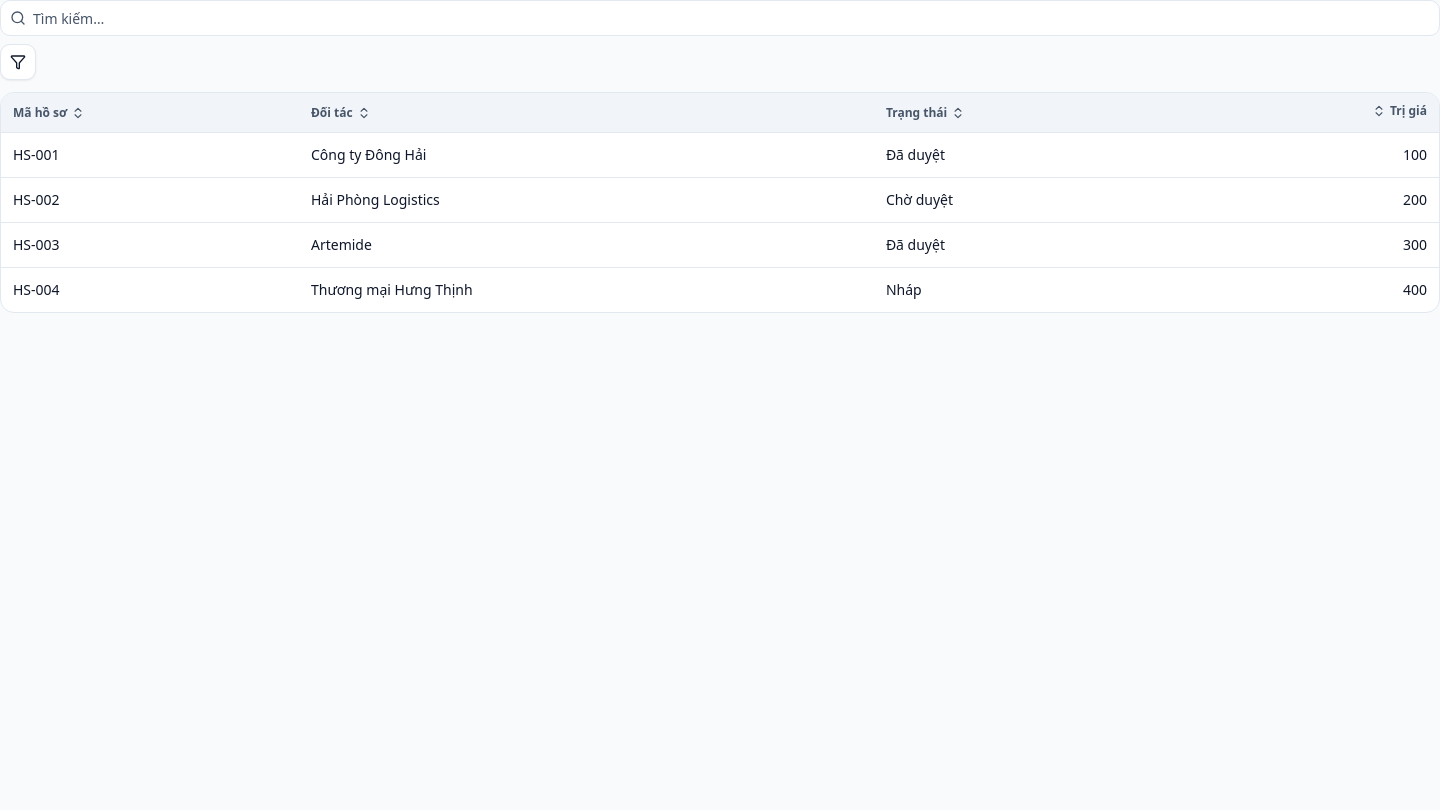
Test case: DataTable – lọc theo cột › kết hợp tìm kiếm + lọc cột; 'Xóa bộ lọc' trả lại đủ dòng và làm trống các ô
This screenshot has width=1440, height=810.
Type "hai" into the search field named "Tìm trong bảng".
click(720, 18); type("hai")  # box [0,0,1439,36]
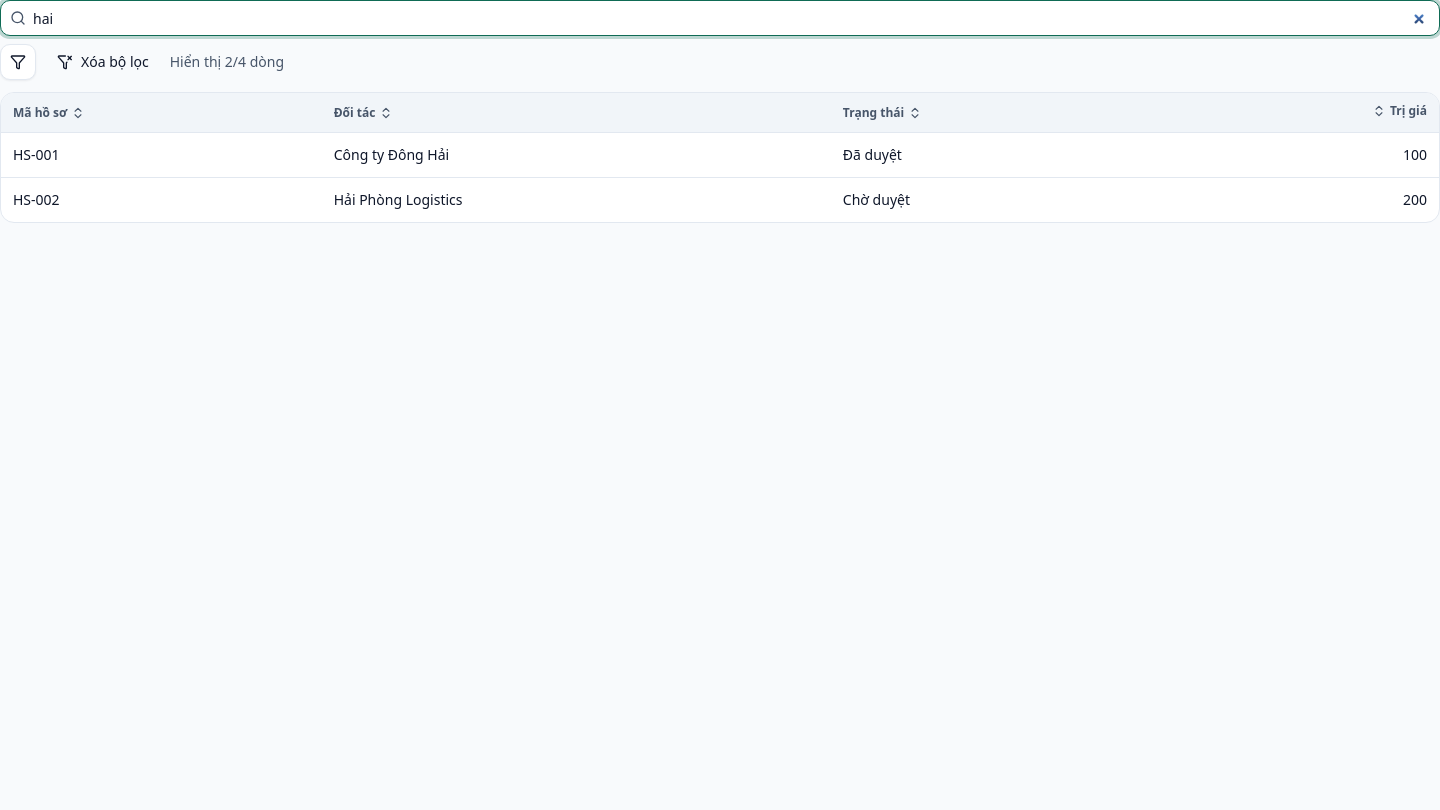
Click the button named "Bộ lọc".
click(18, 62)  # box [0,44,36,80]
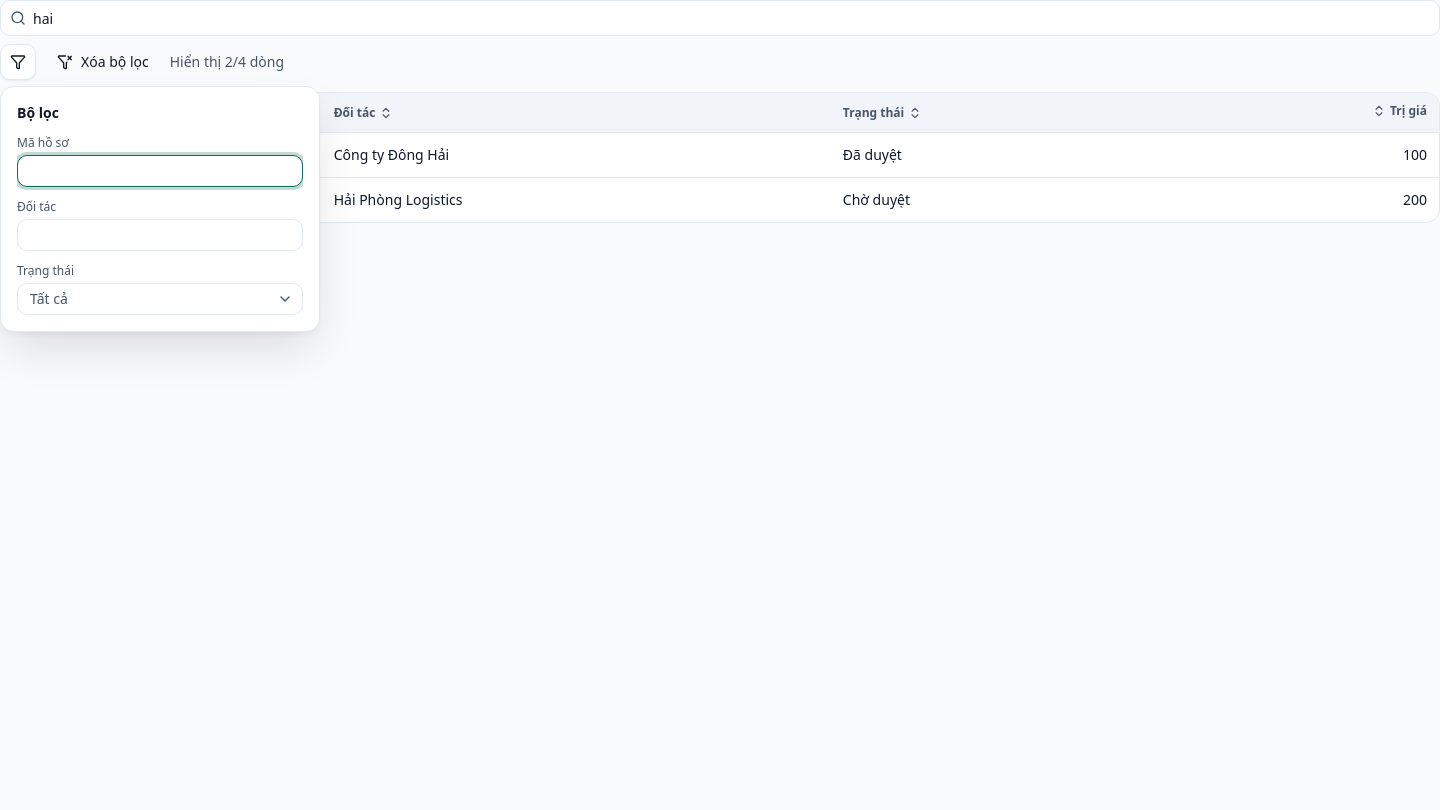
Click the dropdown named "Lọc theo Trạng thái".
click(49, 298)  # box [17,283,303,315]
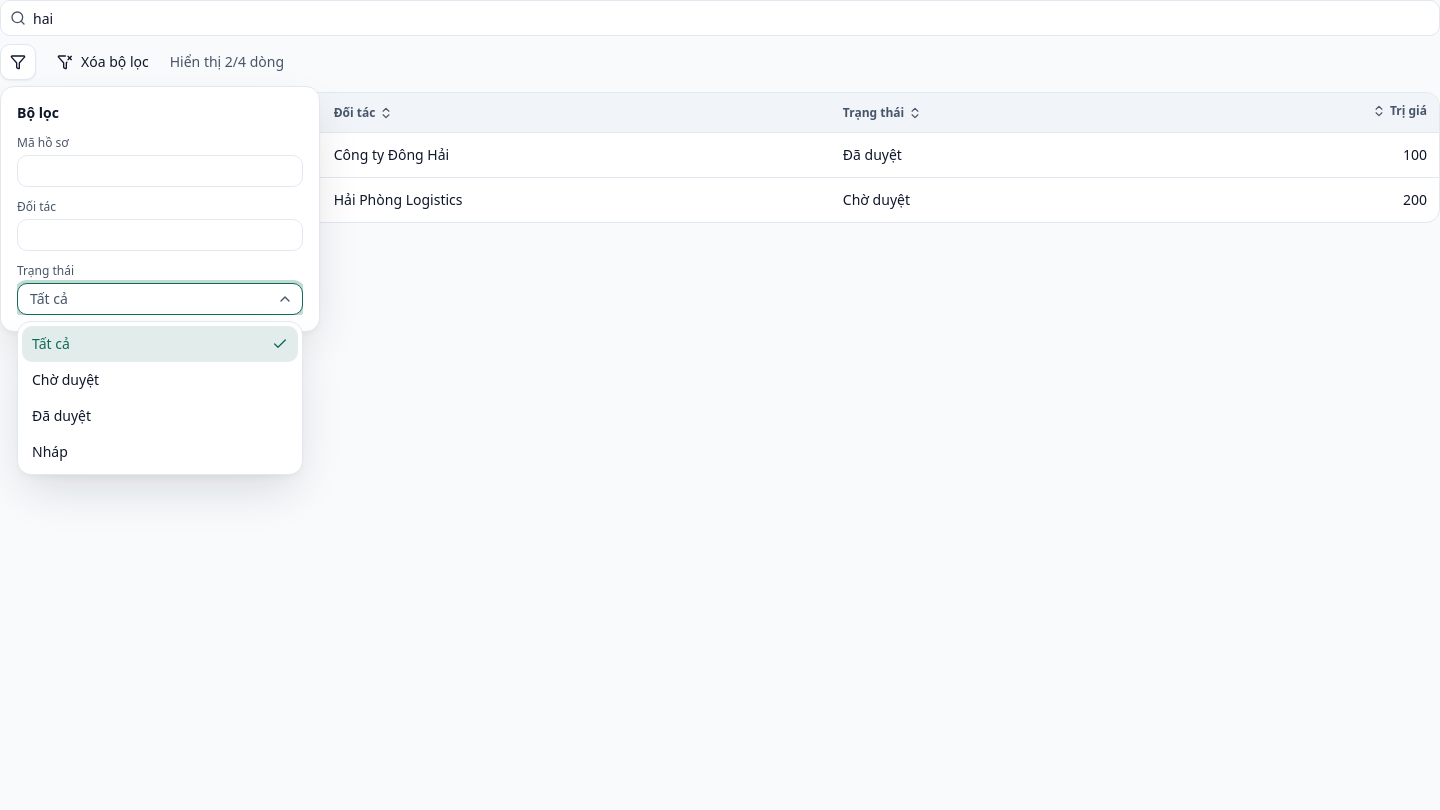
Click the option "Chờ duyệt".
click(66, 380)  # box [32,370,99,389]
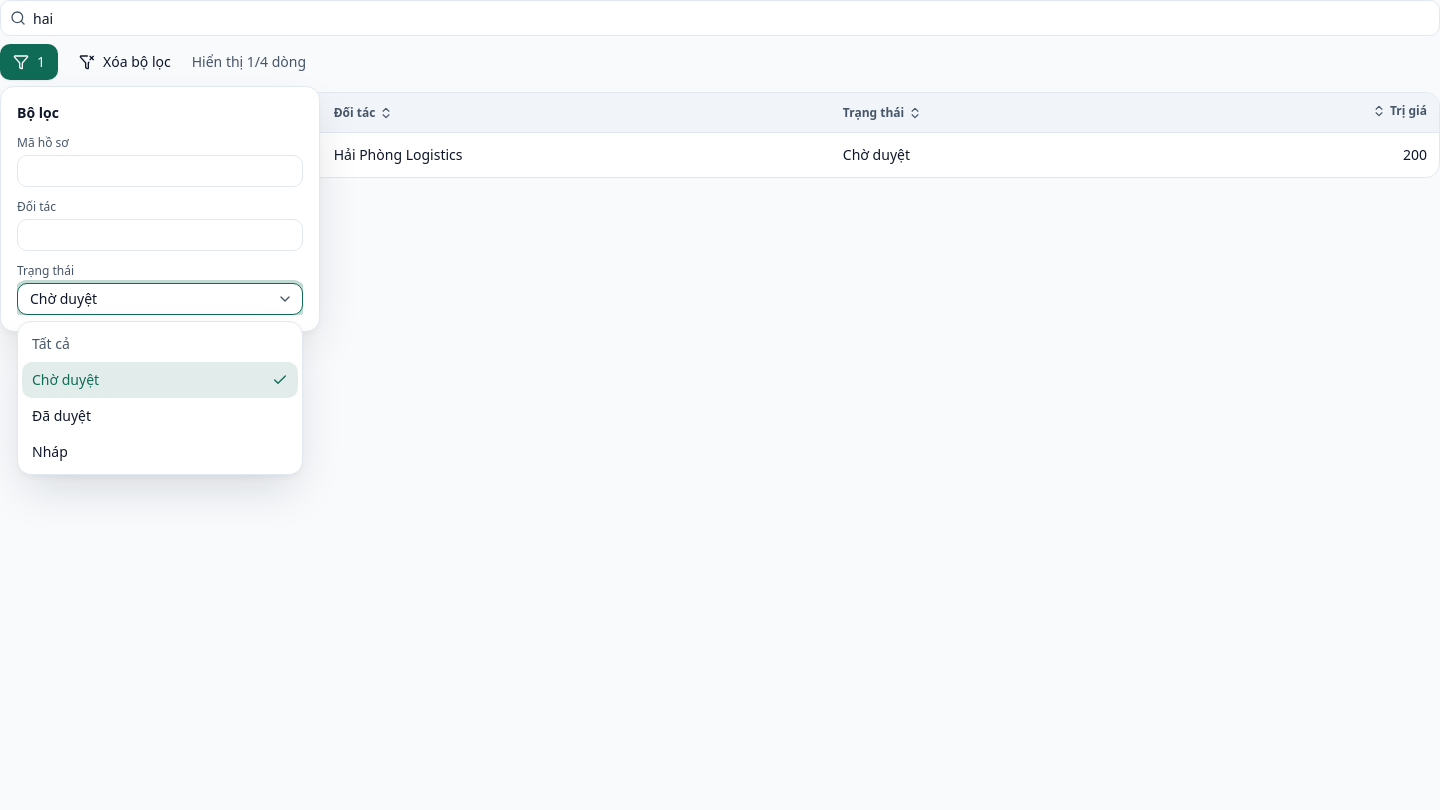
Click the button "Xóa bộ lọc".
click(125, 62)  # box [66,46,184,78]
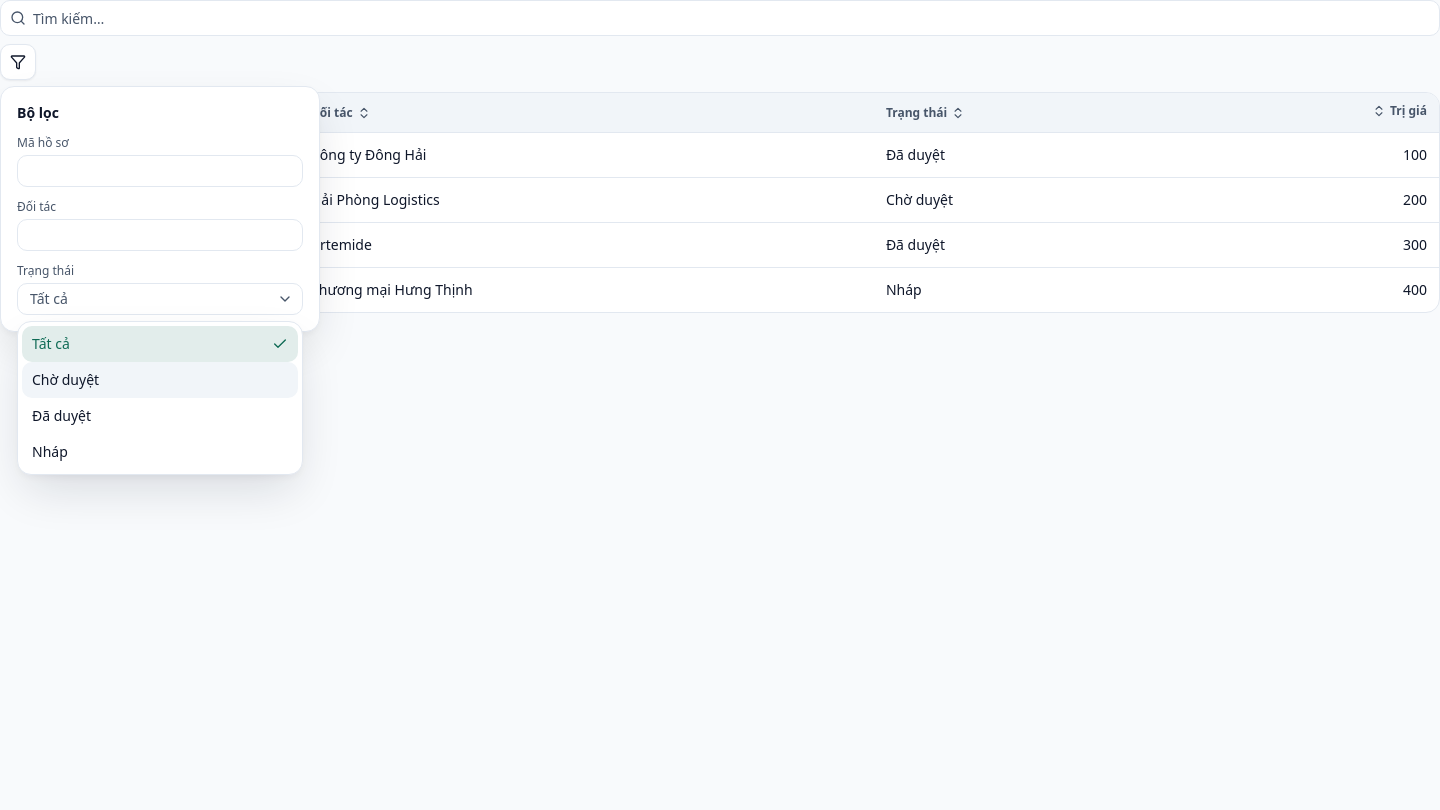
Check: the search field named "Tìm trong bảng" is empty, box [0,0,1439,36]
Check: the dropdown named "Lọc theo Trạng thái" reads "Tất cả", box [17,283,303,315]
Check: the button "Xóa bộ lọc" is gone
